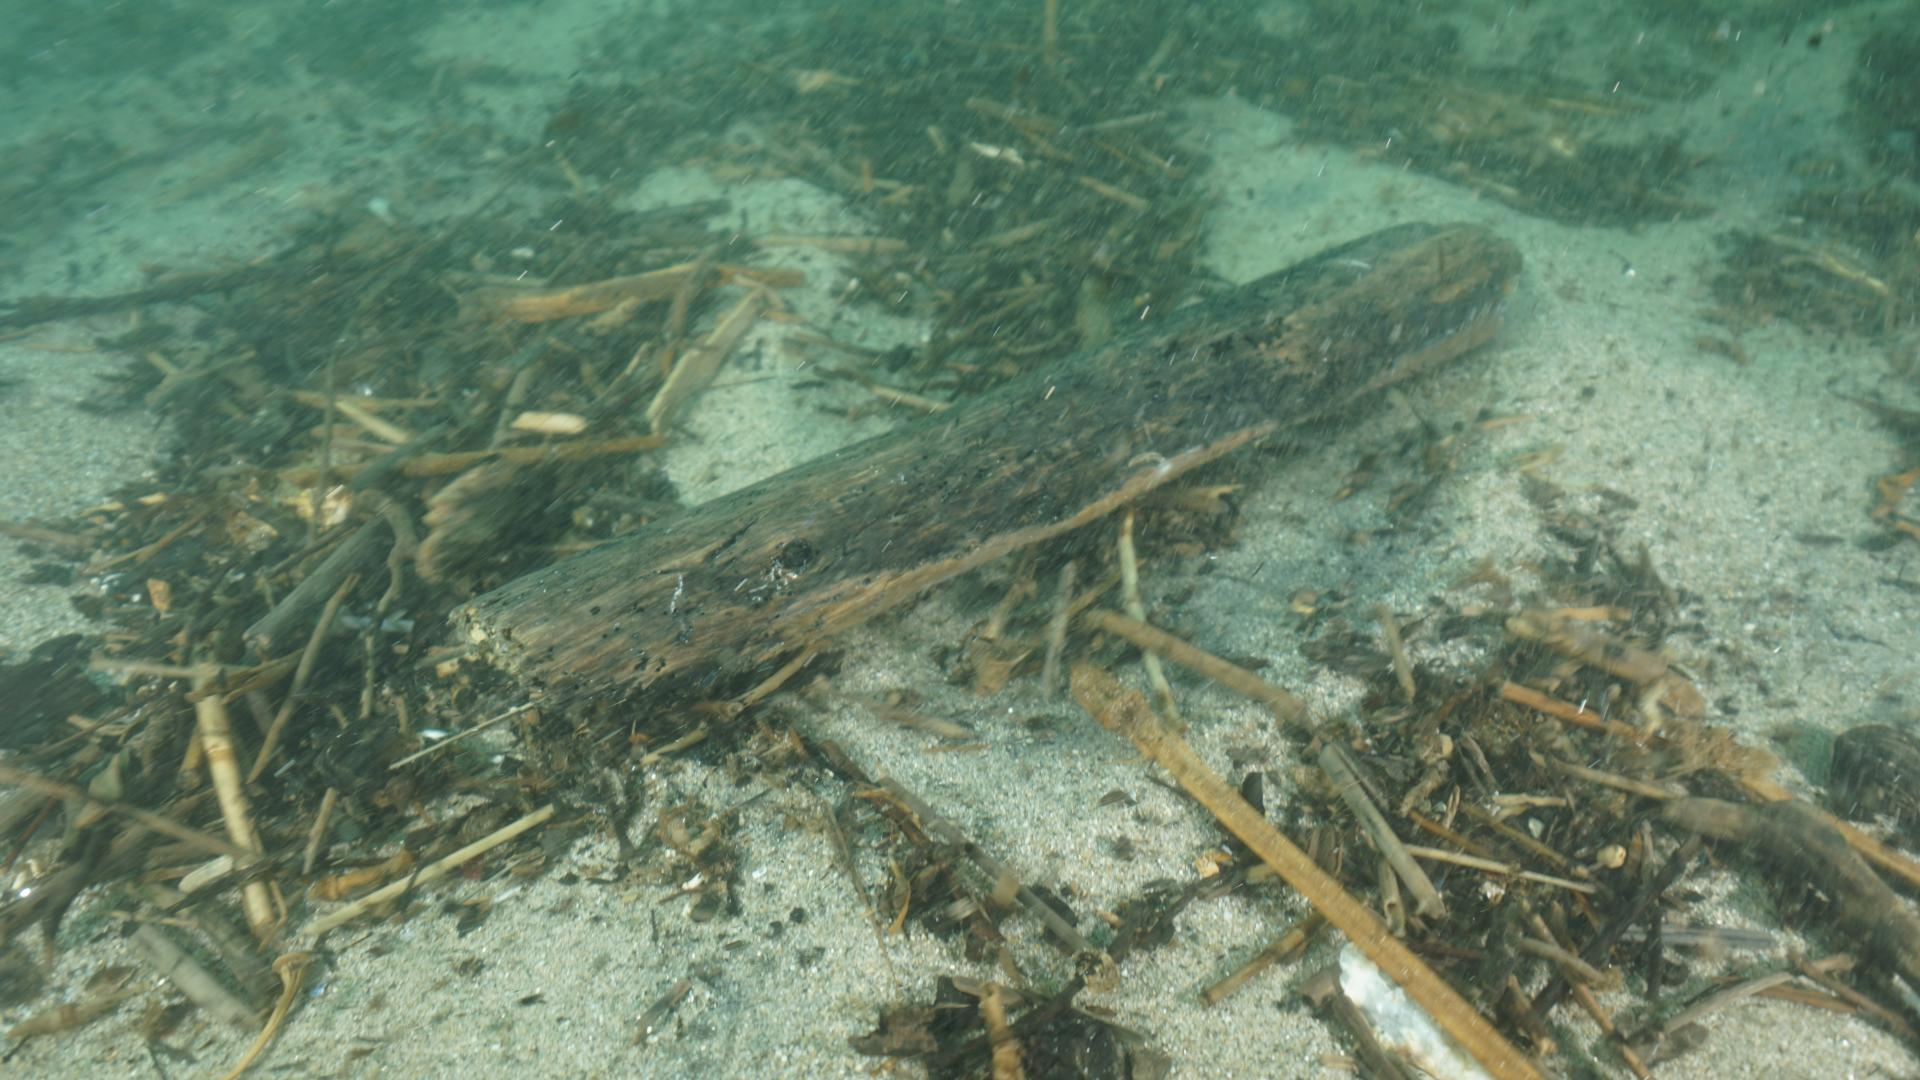wood: (446, 218, 1524, 757)
